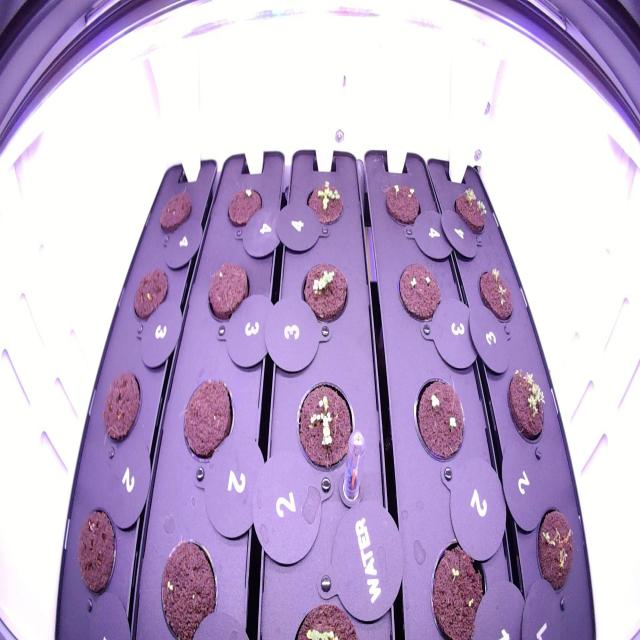germination: (424, 526, 498, 637), (291, 373, 362, 481), (154, 529, 223, 639), (409, 370, 471, 468), (532, 502, 582, 600), (503, 362, 550, 451), (298, 255, 352, 332), (394, 256, 446, 330), (471, 258, 520, 330), (300, 172, 347, 234), (448, 177, 494, 240), (380, 177, 425, 230), (224, 179, 265, 233)
pod: (177, 368, 236, 467), (70, 499, 122, 605), (200, 251, 253, 330), (98, 365, 142, 452), (126, 260, 170, 328), (153, 186, 195, 244)
